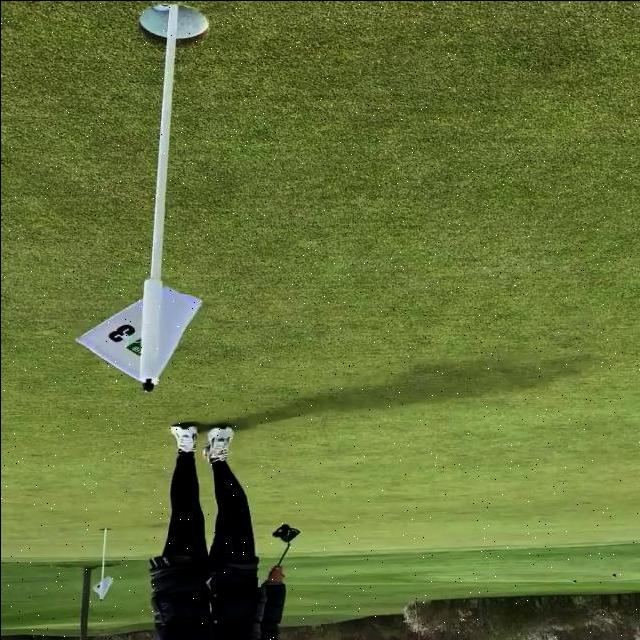golf club-handle: (257, 520, 303, 595)
golf club-head: (270, 522, 299, 542)
